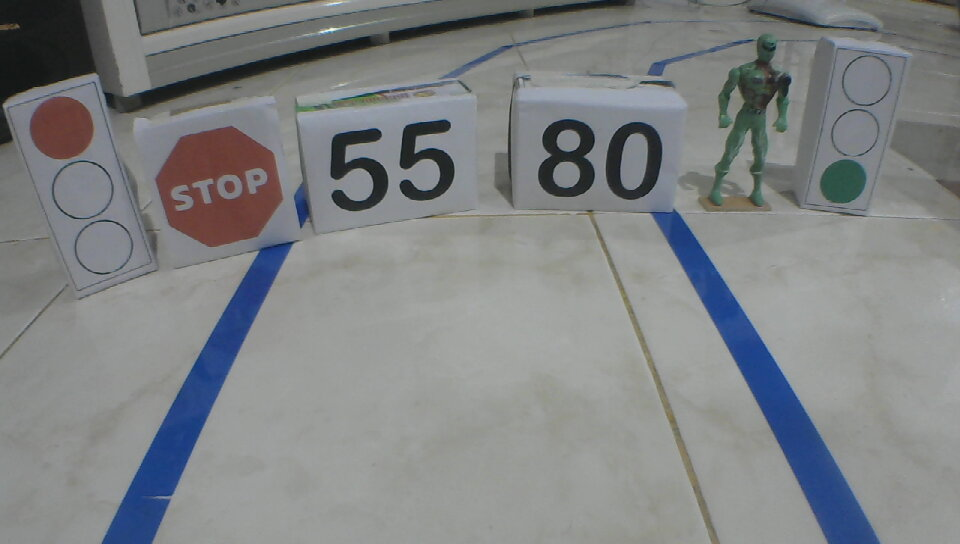Green Light: (814, 53, 894, 209)
Person: (706, 31, 796, 211)
Red Light: (29, 92, 136, 277)
Speed 55: (326, 117, 456, 213)
Speed 80: (535, 116, 667, 203)
Stop: (153, 124, 284, 248)
